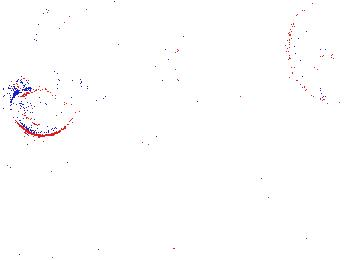moon jellyfish: (33, 1, 181, 109), (114, 38, 174, 145), (286, 1, 346, 106), (9, 81, 81, 138)
